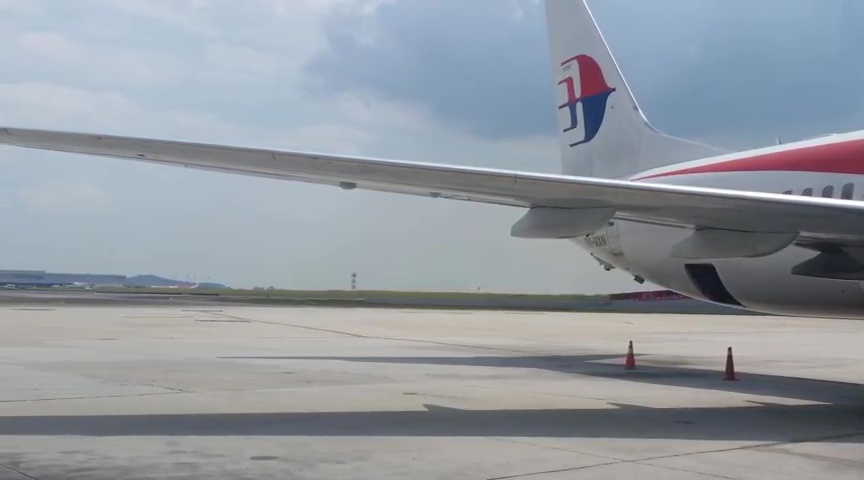safety_cone: (718, 344, 739, 382), (621, 340, 640, 372)
